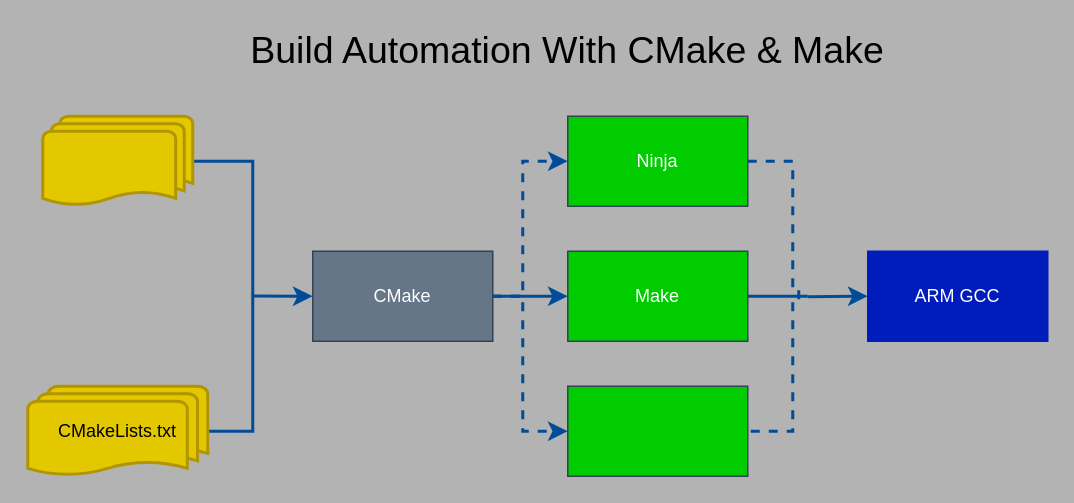
Some shapes in this 1074 by 503 pixel diagram are drawn without their labels. The centre of each missing label's shape, as x and y in pixels:
"*.cmake" goes at (x=117, y=160).
"IDE .sln project" goes at (x=657, y=430).
